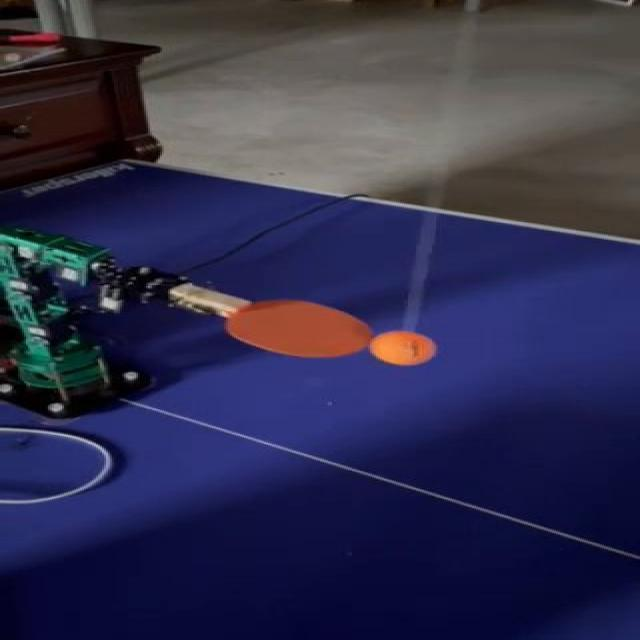ping-pong-ball: (370, 330, 440, 362)
